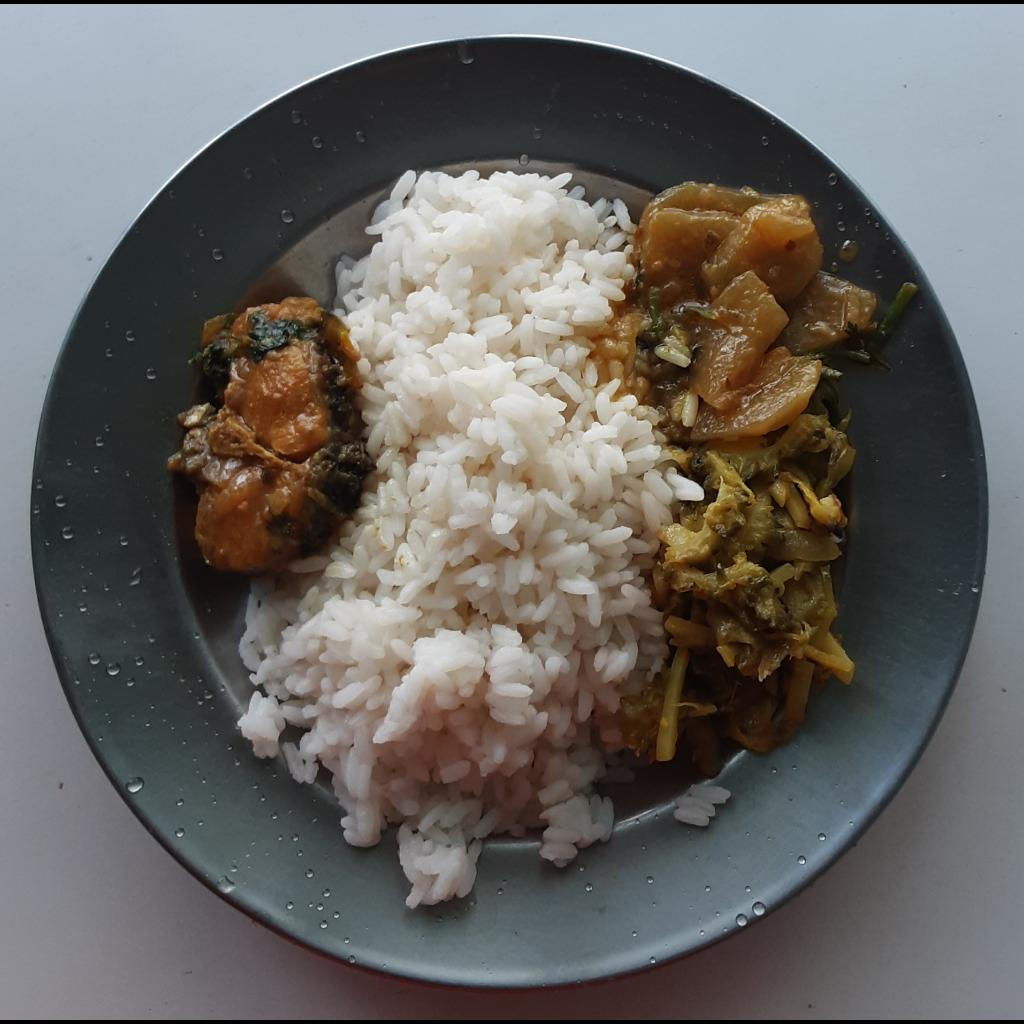fish: (171, 298, 367, 570)
korola-vaji: (623, 396, 856, 775)
papaya: (634, 180, 873, 448)
rice: (237, 167, 700, 915), (668, 781, 730, 828)
